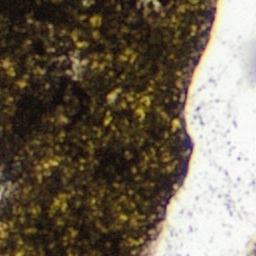cement_matrix: (0, 0, 213, 255)
gravel_crushed_stones: (143, 0, 255, 255), (0, 189, 3, 198)
